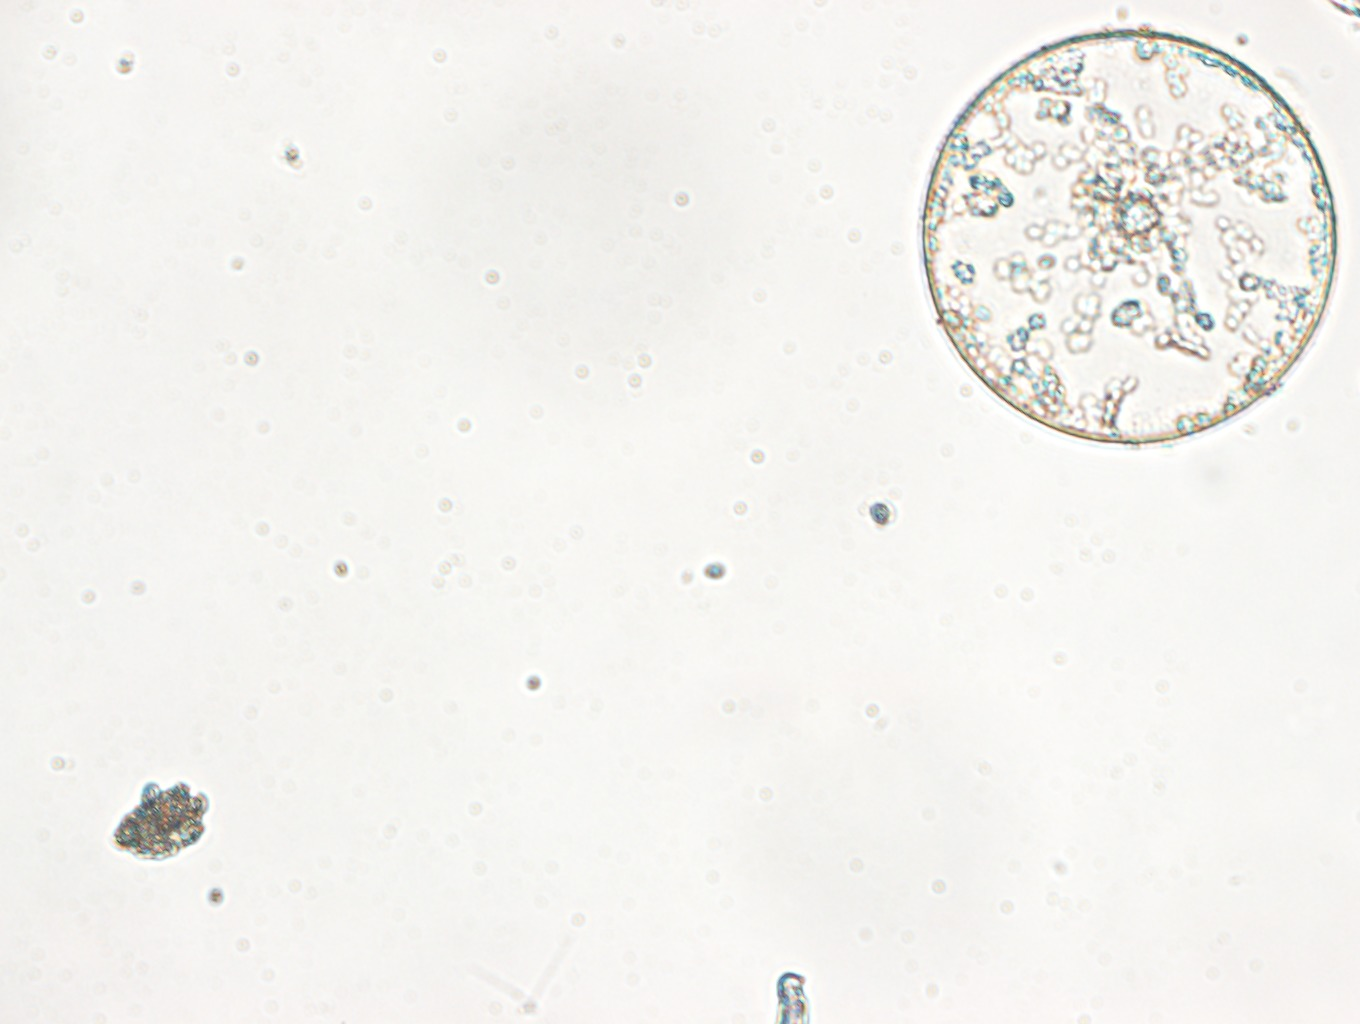coscinodiscus: (916, 17, 1345, 447)
